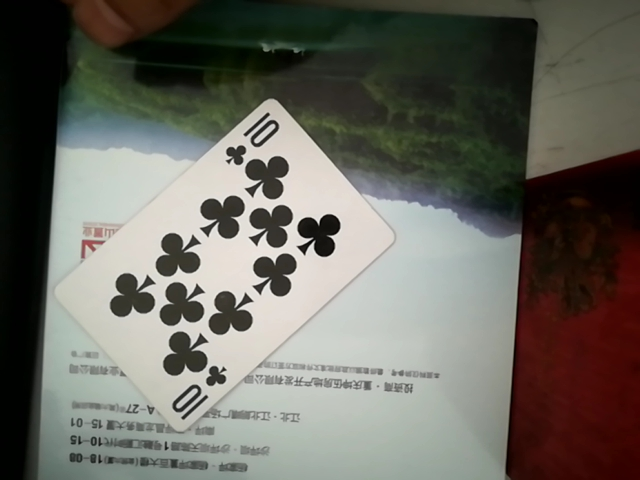mh 10: (54, 98, 393, 411)
